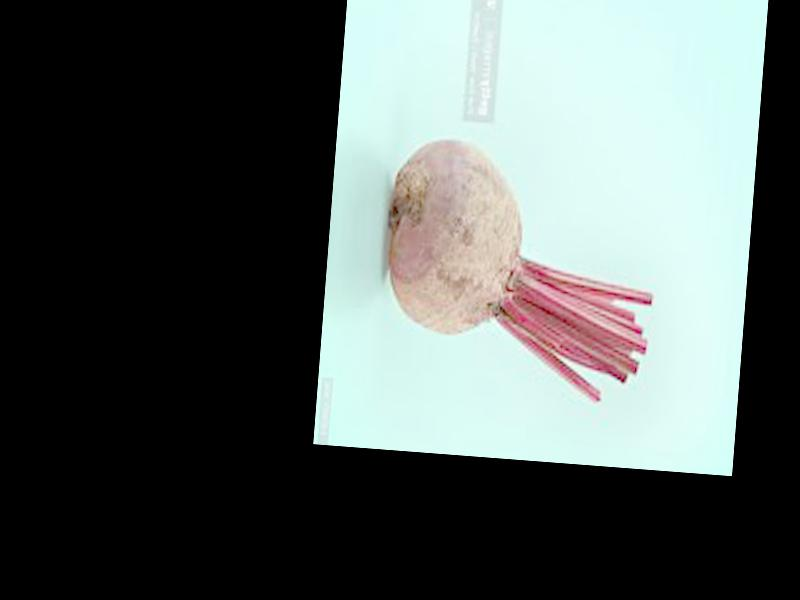Beet: (375, 135, 660, 404)
